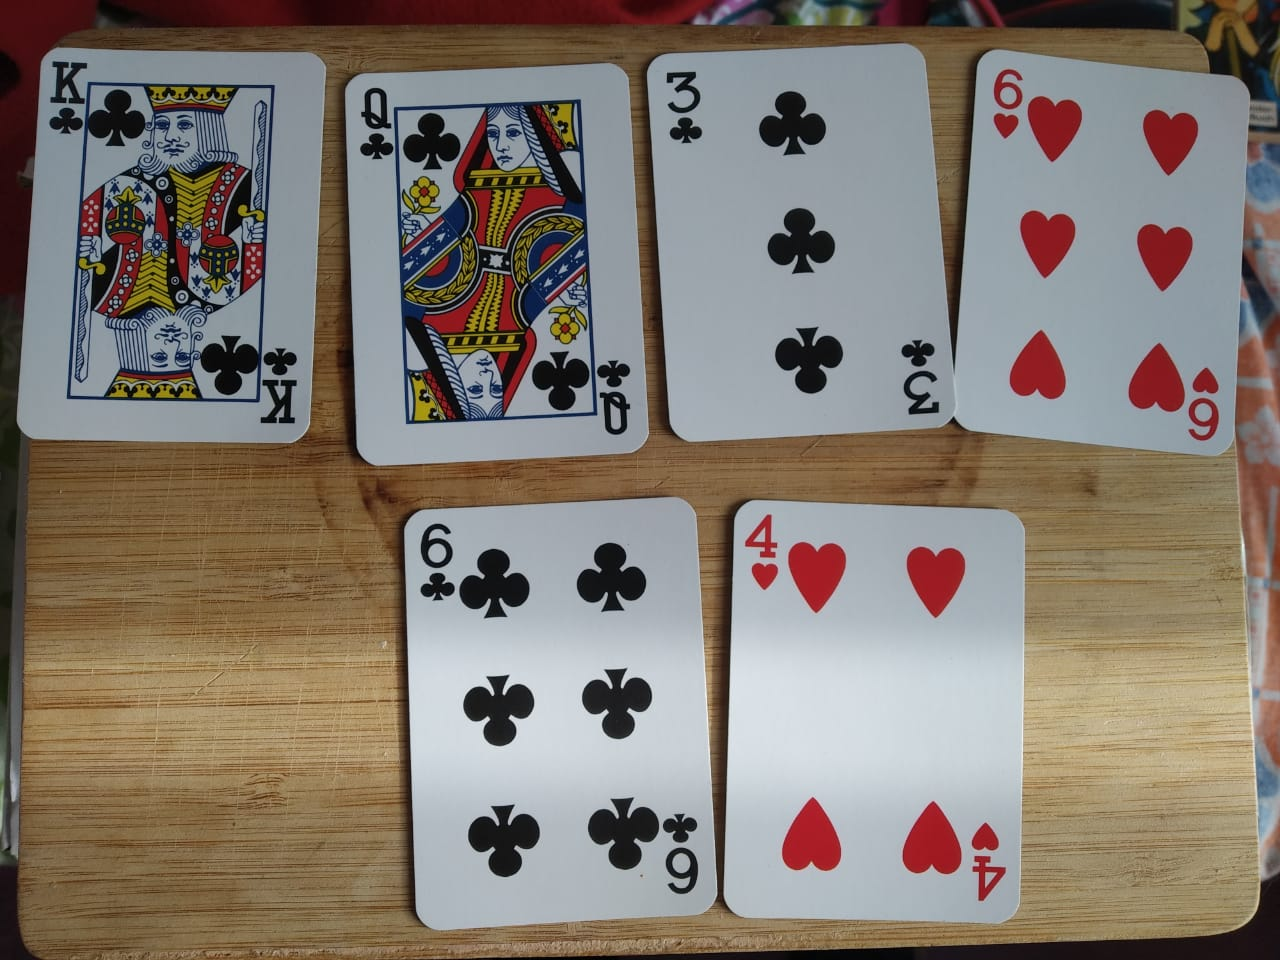four: (721, 483, 1035, 939)
king: (13, 25, 327, 464)
queen: (330, 52, 652, 461)
six: (376, 489, 727, 933), (946, 43, 1255, 474)
three: (635, 39, 966, 452)
